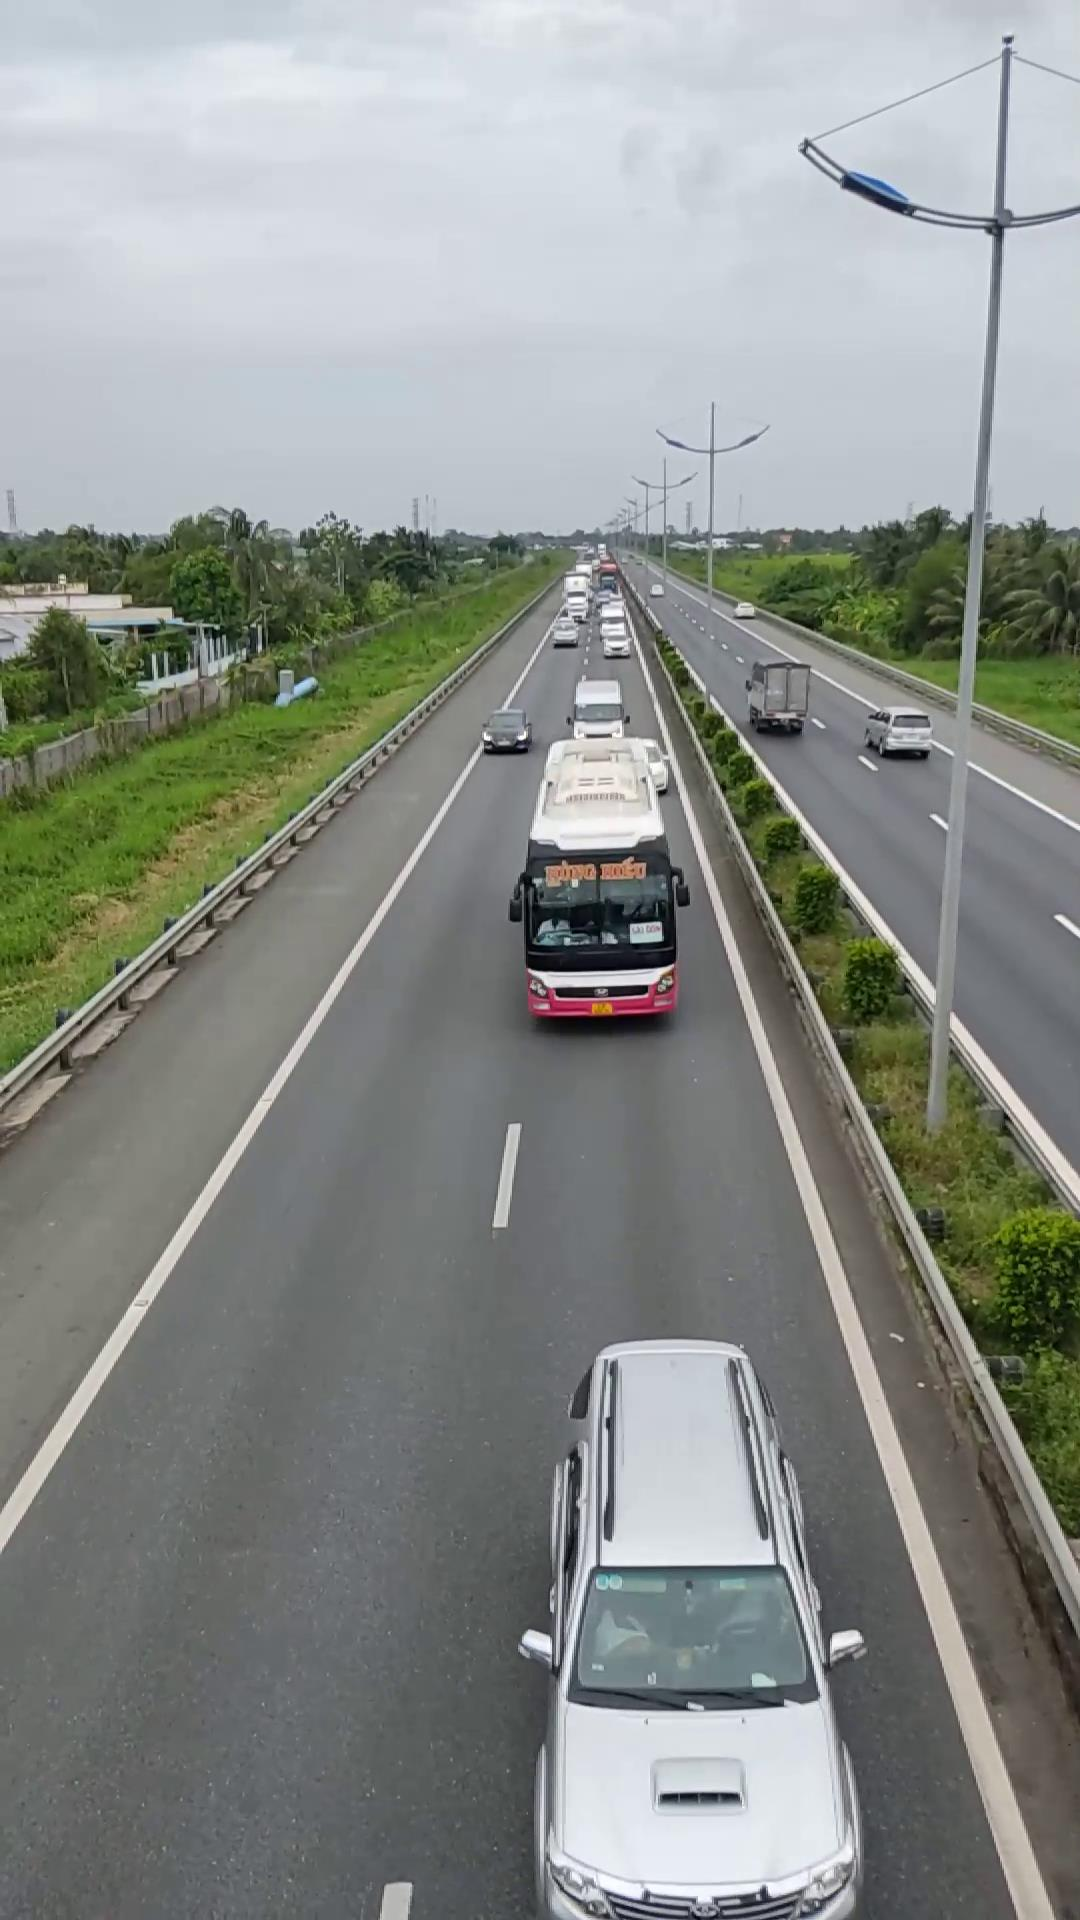bus: (508, 740, 684, 1025)
car: (524, 1336, 866, 1917)
truck: (744, 654, 810, 733)
